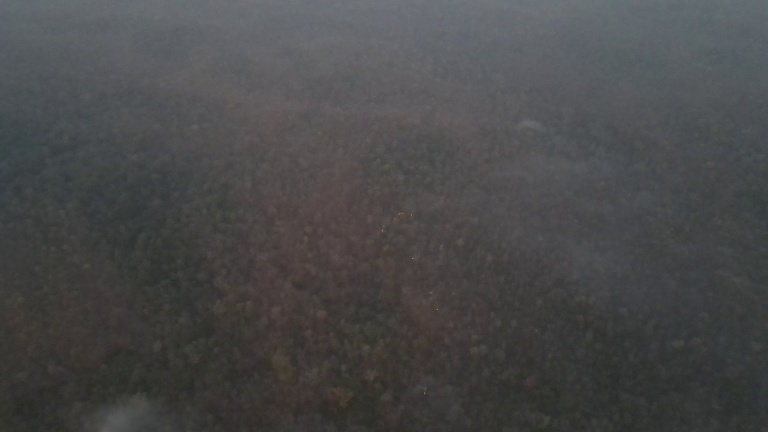fire: (376, 207, 417, 239), (428, 289, 444, 315), (410, 254, 417, 260)
smoke: (92, 392, 161, 432), (509, 118, 552, 144)
